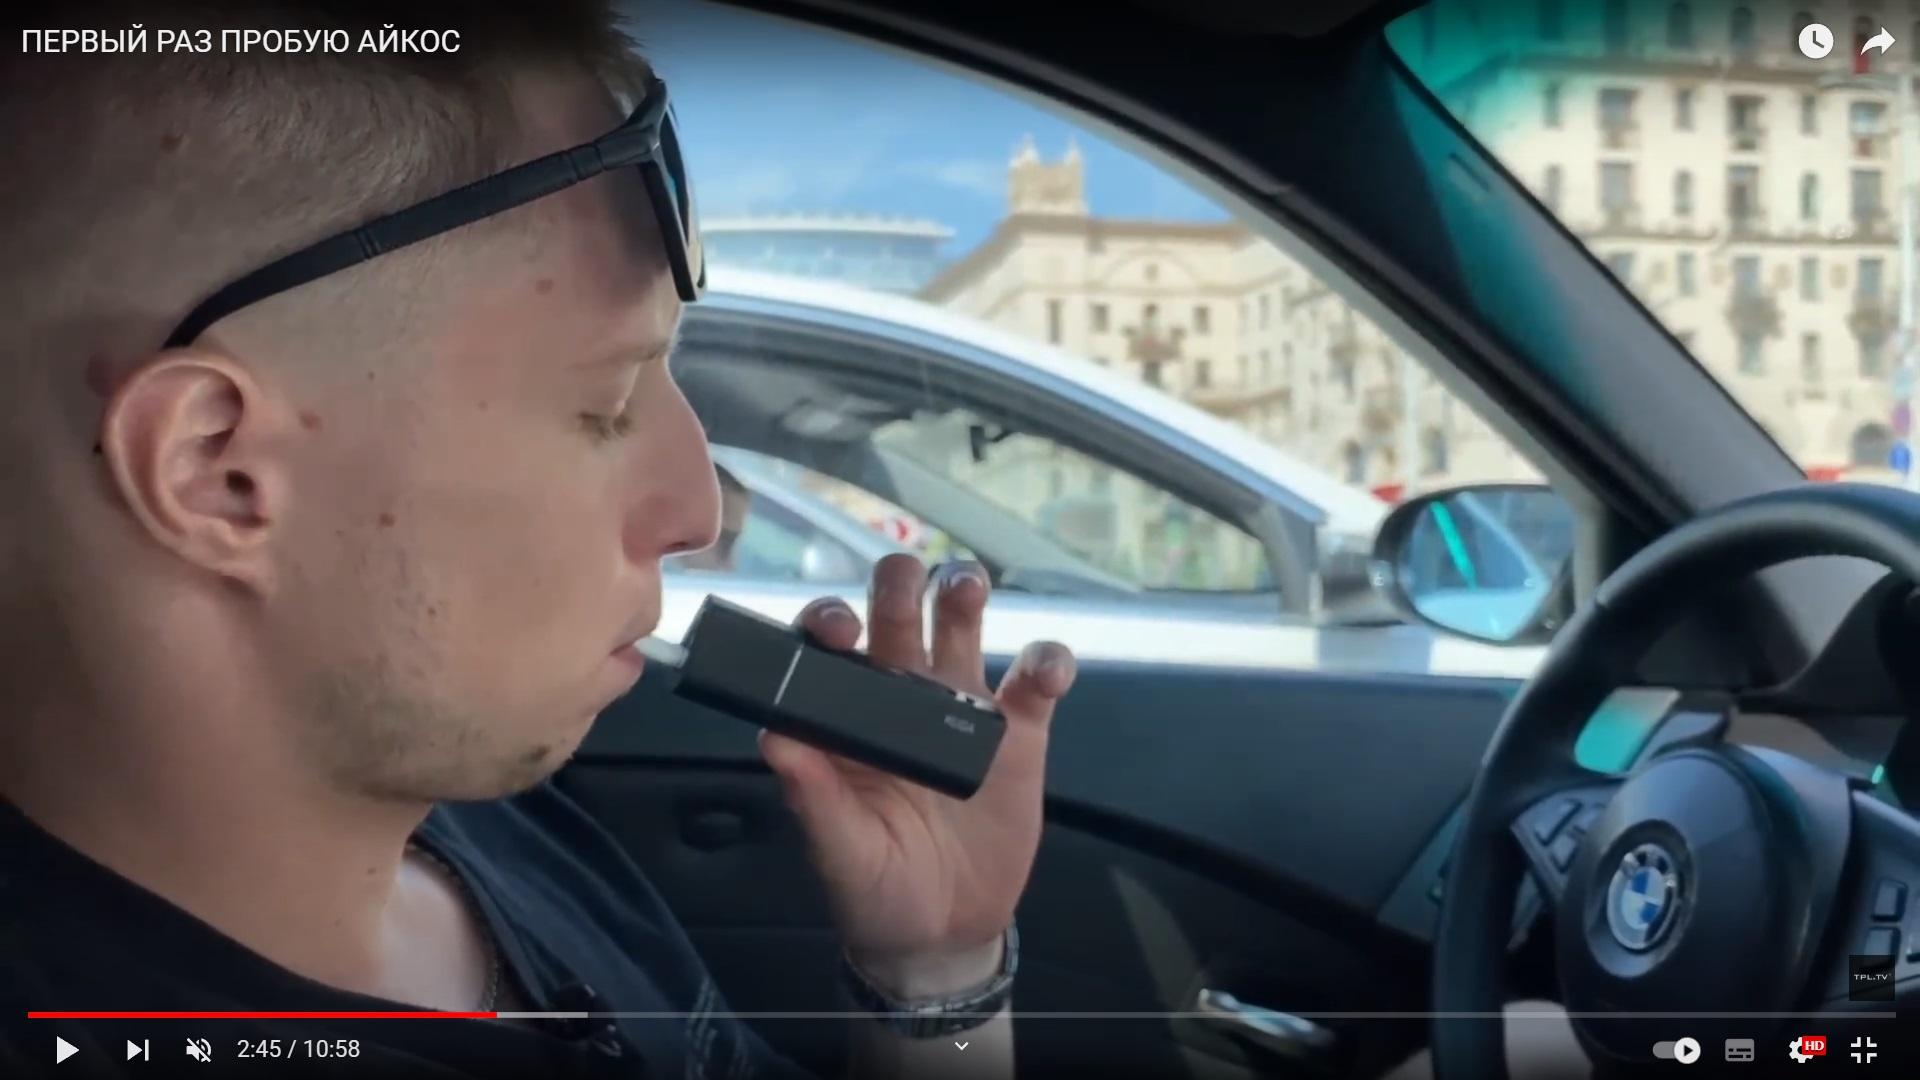iqos: (625, 596, 1005, 796)
